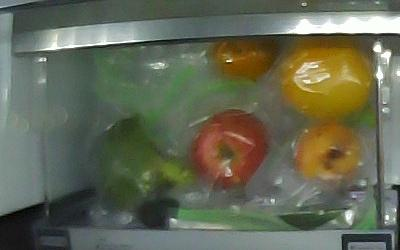apple_vinyl: (188, 109, 272, 190)
broccoli_vinyl: (85, 114, 194, 211)
cucumber_vinyl: (128, 197, 367, 230)
grapefruit_vinyl: (280, 39, 373, 122)
peach_vinyl: (293, 123, 363, 184)
persimmon_vinyl: (203, 38, 282, 82)
